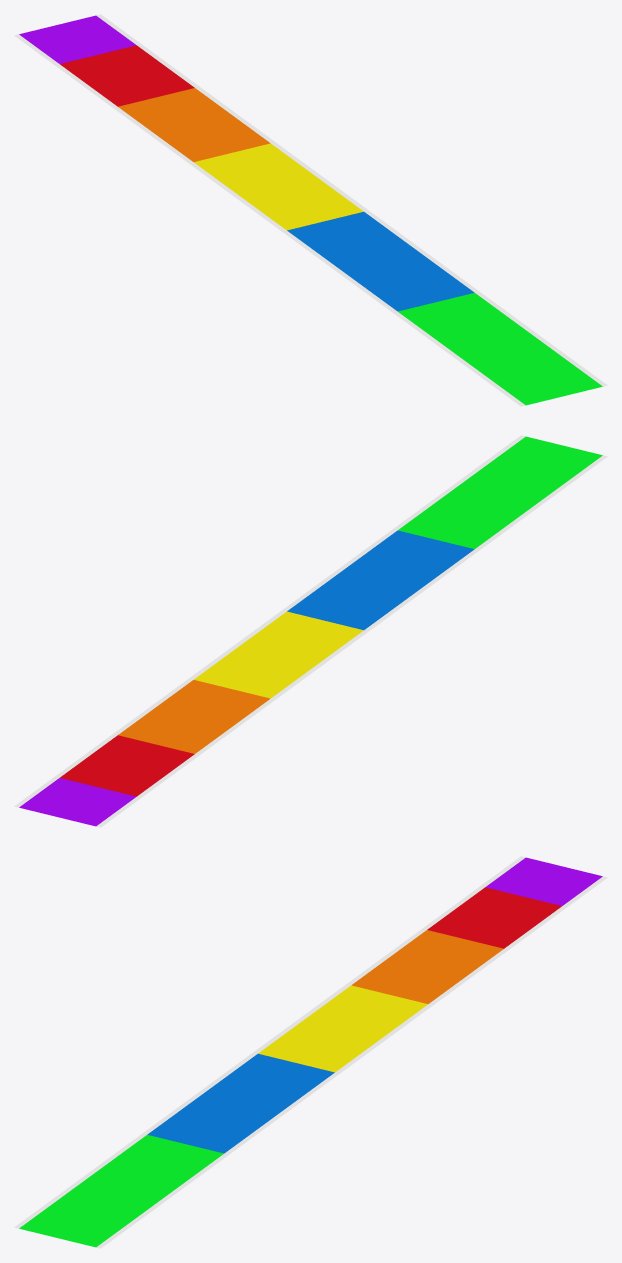
Rendered from ending1.fbx.
3 renders of one model, top to bottom at view 1: azimuth 30°, elevation 25°; view 2: azimuth 150°, elevation 25°; view 3: azimuth 330°, elevation 25°, orthographic.
Visible parts, largest first — view 1: Ending_way; view 2: Ending_way; view 3: Ending_way.
Boxes of the visible parts, x1,y1,x2,y2 form: Ending_way: (14,14,607,406); Ending_way: (14,435,607,827); Ending_way: (14,856,607,1248).
Bounding box in the file's own units: 14.33 × 145 × 1.73e-05.
